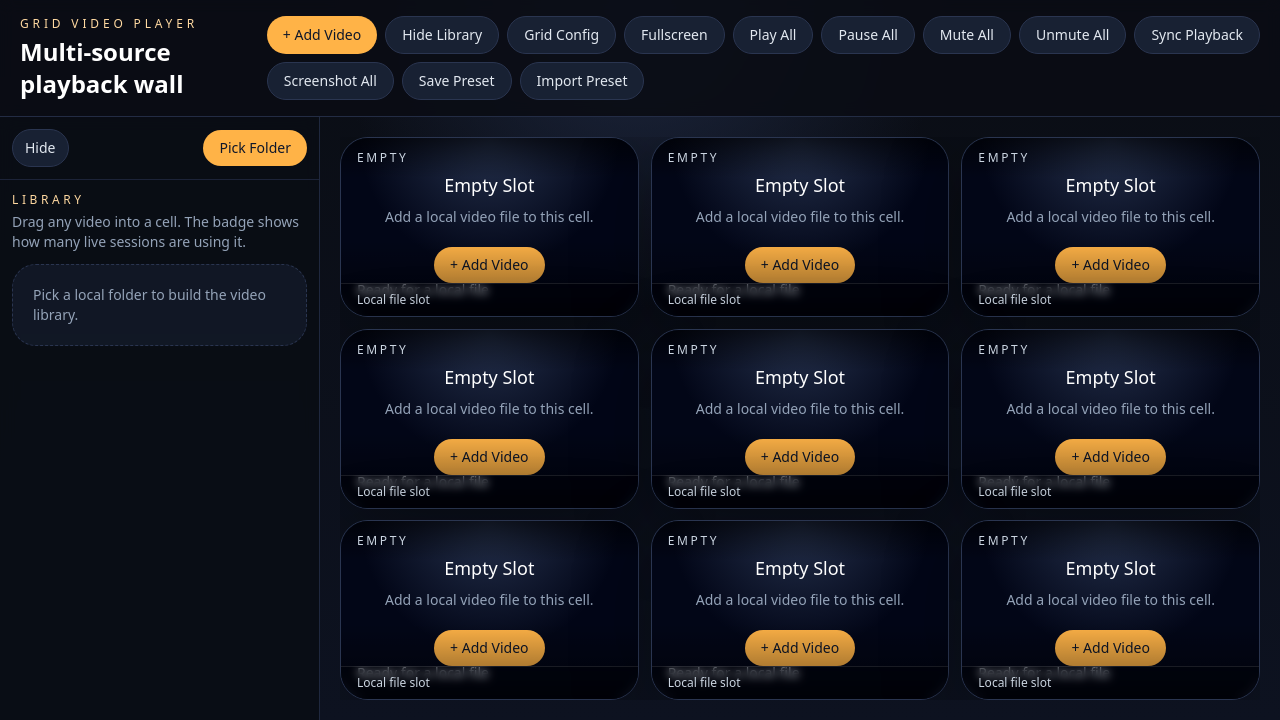
App UI behavior › hides the top toolbar while fullscreen mode is active
Click the button "Fullscreen" at (674, 35), box [624,16,725,54]
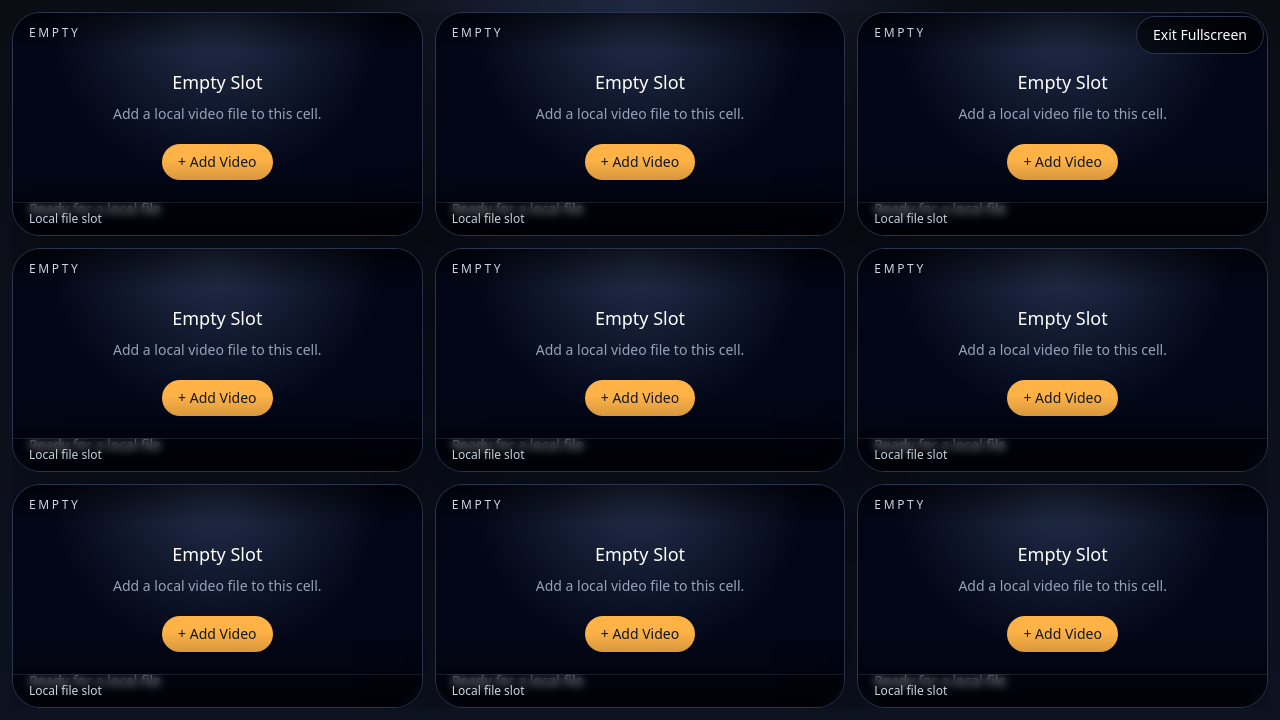
Expected: the button "Exit Fullscreen" is shown, [1136,16,1264,54]
